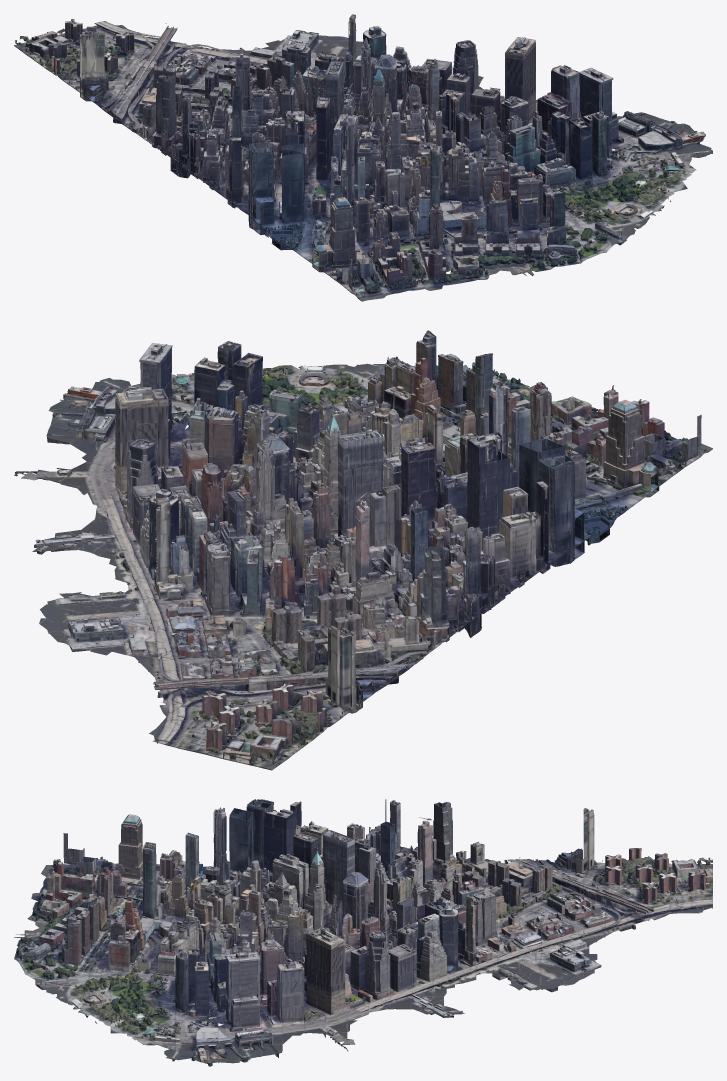
Rendered from manhattan_4k.glb.
3 views of the same model, one above another, from view 1: azimuth 30°, elevation 25°; view 2: azimuth 150°, elevation 25°; view 3: azimuth 270°, elevation 25° (orthographic). The views are drawn at different scales.
Visible parts, largest first — view 1: Object_4, Object_3, Object_9, Object_8, Object_6, Object_7, Object_10, Object_5, Object_11, Object_15, Object_14, Object_16 (+2 smaller); view 2: Object_9, Object_3, Object_4, Object_8, Object_6, Object_7, Object_5, Object_11, Object_10, Object_15, Object_16, Object_12 (+2 smaller); view 3: Object_3, Object_4, Object_9, Object_5, Object_10, Object_8, Object_11, Object_6, Object_7, Object_15, Object_16, Object_13 (+2 smaller).
Boxes of the visible parts, x1,y1,x2,y2 form: Object_4: (14, 21, 679, 301); Object_3: (118, 30, 712, 281); Object_9: (171, 14, 618, 209); Object_8: (77, 26, 612, 251); Object_6: (133, 32, 641, 256); Object_7: (305, 55, 602, 208); Object_10: (231, 48, 612, 224); Object_5: (71, 19, 612, 290); Object_11: (72, 17, 534, 276); Object_15: (36, 40, 520, 237); Object_14: (202, 103, 570, 246); Object_16: (59, 65, 555, 250); Object_9: (39, 343, 584, 622); Object_3: (14, 356, 585, 709); Object_4: (53, 365, 712, 770); Object_8: (127, 340, 656, 699); Object_6: (157, 330, 598, 727); Object_7: (146, 342, 475, 574); Object_5: (102, 394, 670, 754); Object_11: (138, 373, 701, 727); Object_10: (122, 348, 564, 581); Object_15: (191, 407, 556, 748); Object_16: (81, 376, 527, 726); Object_12: (109, 431, 460, 637); Object_3: (14, 881, 626, 1066); Object_4: (24, 848, 712, 1032); Object_9: (142, 799, 571, 1013); Object_5: (31, 859, 712, 1032); Object_10: (110, 832, 411, 1007); Object_8: (115, 801, 621, 1013); Object_11: (47, 802, 702, 984); Object_6: (66, 823, 699, 1032); Object_7: (116, 867, 454, 991); Object_15: (110, 848, 669, 983); Object_16: (81, 862, 626, 1009); Object_13: (153, 874, 397, 1033).
Bounding box in the file's own units: 8.07 × 2.23 × 11.93.
1 material, 1 textured.
